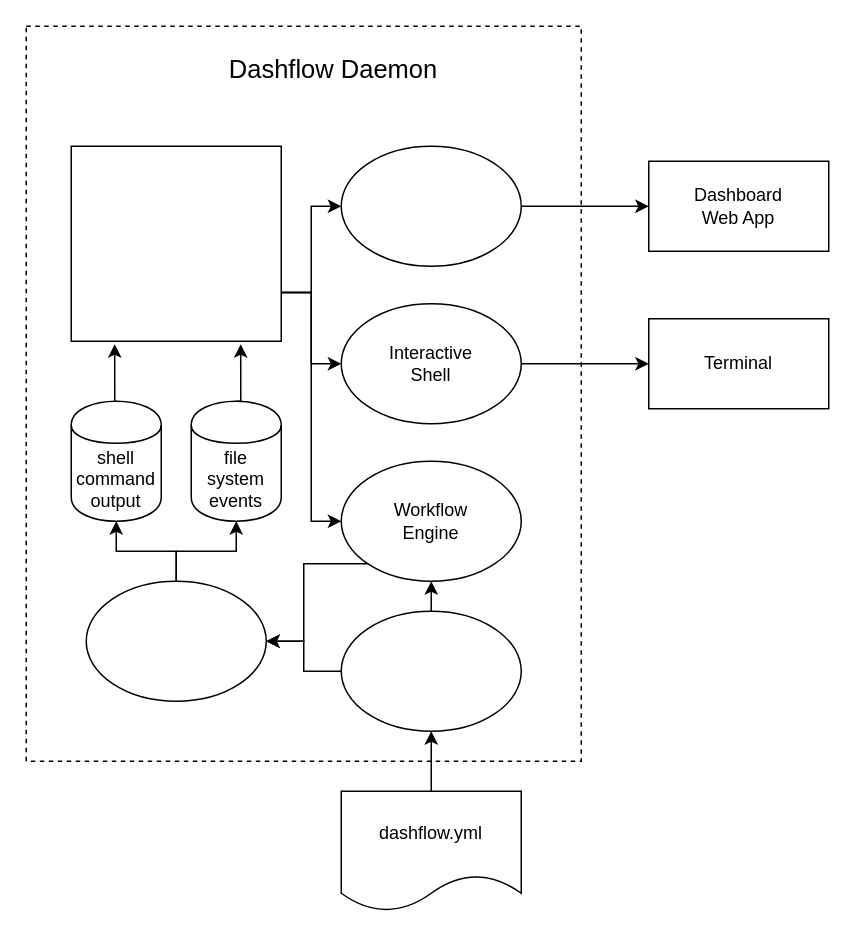
The diagram is 855 pixels wide and 938 high, and some of its shapes have lost their labels. Each missing label, with the box of its shape:
Command Runner /Stream Runner: (85, 580, 266, 701)
Config Parser: (340, 610, 521, 731)
HTTP server: (340, 145, 521, 266)
Memory Queue: (70, 145, 281, 341)
